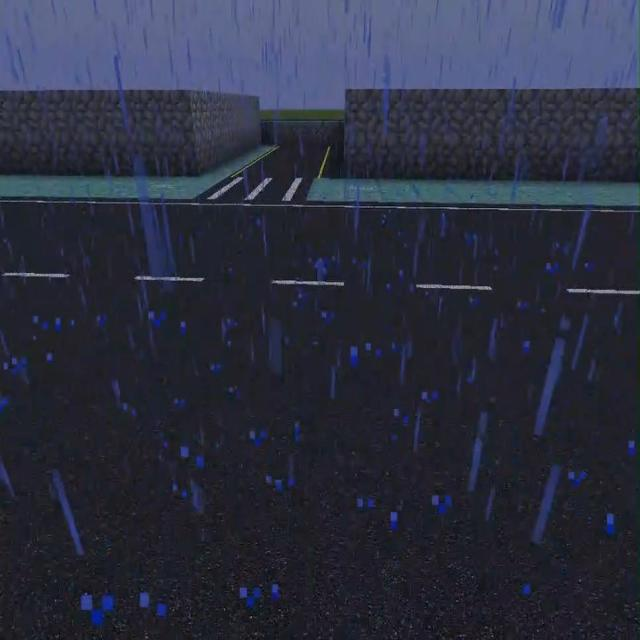8: (199, 179, 312, 200)
crosswalk: (0, 204, 639, 639), (237, 143, 343, 178)
road: (0, 144, 272, 194), (310, 181, 639, 204)
